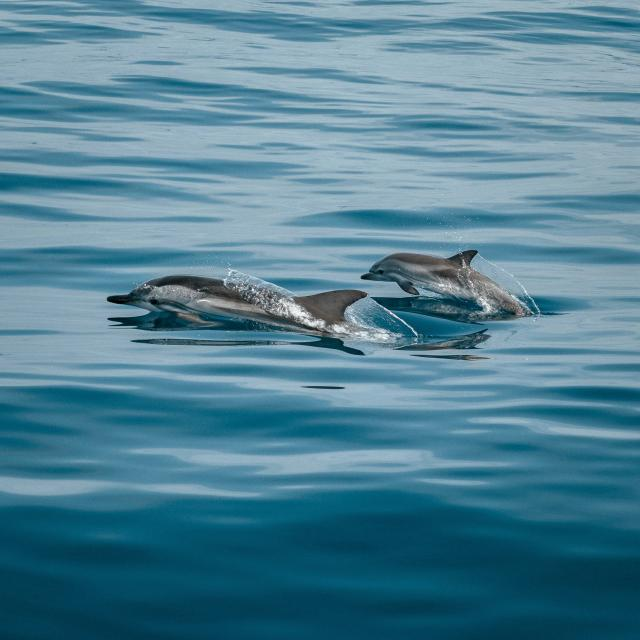penguin: (108, 270, 420, 345), (107, 275, 368, 339), (361, 250, 539, 320), (361, 250, 522, 314)
